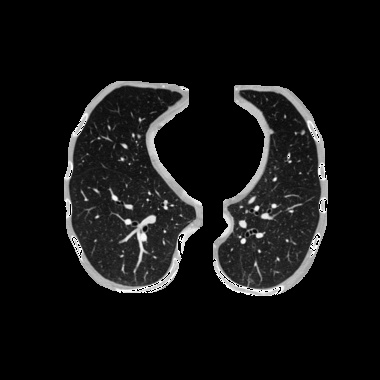PN: (301, 130, 305, 134)
